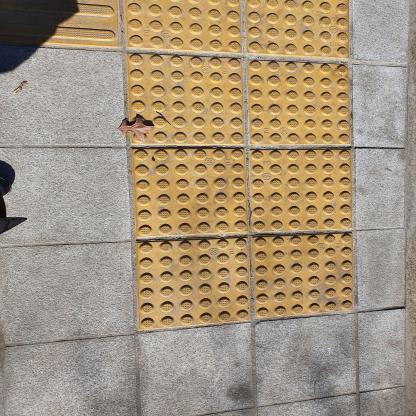podotacti: (0, 0, 366, 336)
